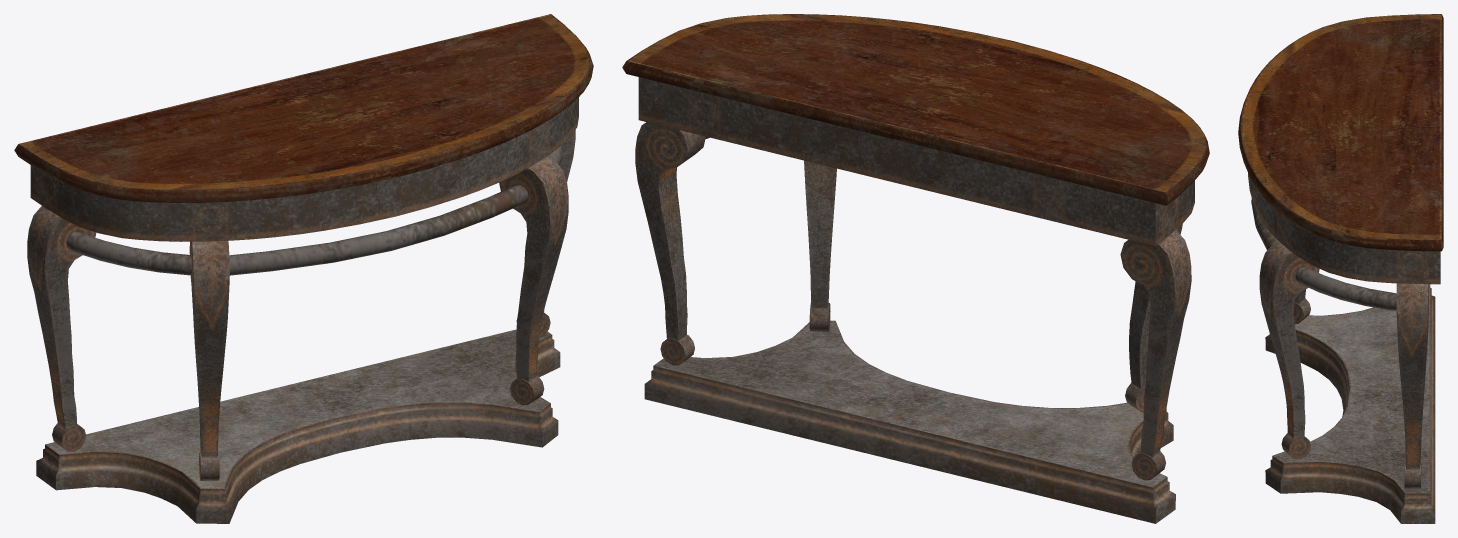
The model's file is 130_AntiqueTable.fbx.
3 renders of one model, left to right at view 1: azimuth 30°, elevation 25°; view 2: azimuth 150°, elevation 25°; view 3: azimuth 270°, elevation 25°, orthographic. The views are drawn at different scales.
Visible parts, largest first — view 1: LOD_1_Group_0_Sub_1__sm30_130_AntiqueTable01A_A_Mat; view 2: LOD_1_Group_0_Sub_1__sm30_130_AntiqueTable01A_A_Mat; view 3: LOD_1_Group_0_Sub_1__sm30_130_AntiqueTable01A_A_Mat.
Part boxes in pixels (left/top/right/bottom): LOD_1_Group_0_Sub_1__sm30_130_AntiqueTable01A_A_Mat: left=14, top=14, right=593, bottom=523; LOD_1_Group_0_Sub_1__sm30_130_AntiqueTable01A_A_Mat: left=622, top=14, right=1209, bottom=523; LOD_1_Group_0_Sub_1__sm30_130_AntiqueTable01A_A_Mat: left=1238, top=14, right=1443, bottom=523.
Bounding box in the file's own units: 1.35 × 0.7973 × 0.5128.
